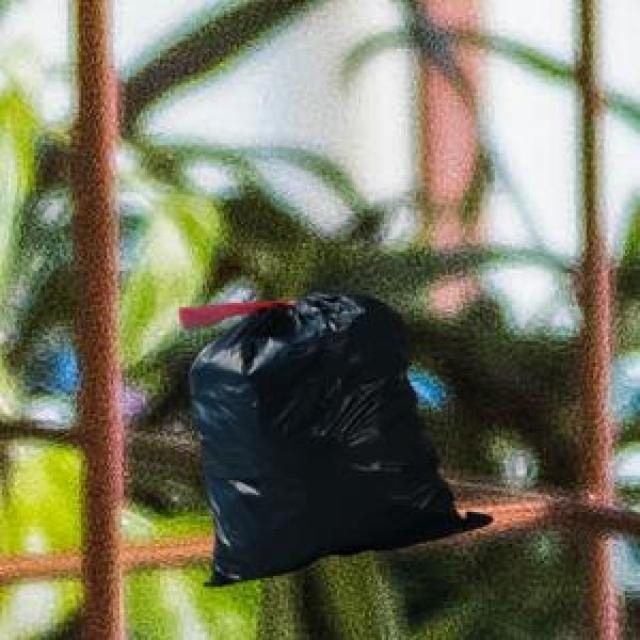waste: (190, 294, 491, 586)
